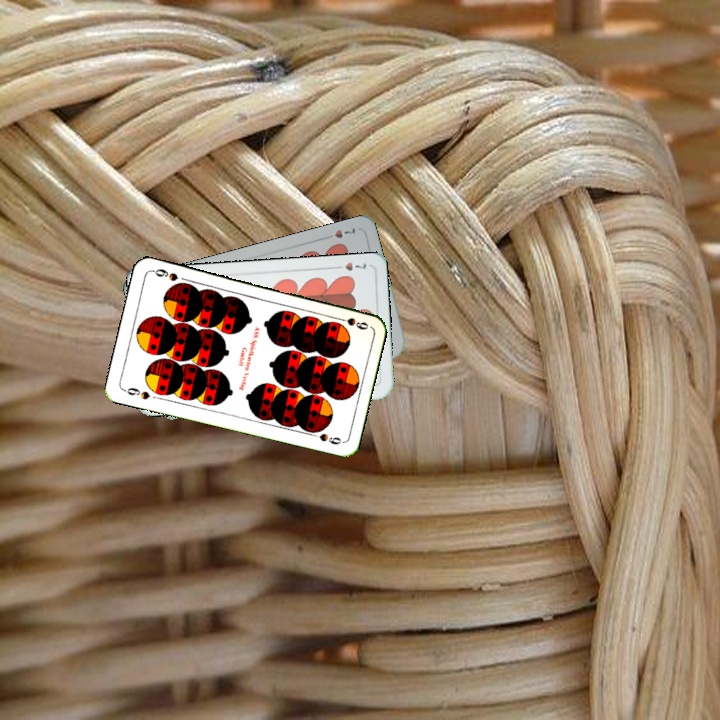H7: (330, 258, 368, 273), (330, 224, 358, 241)
S9: (331, 313, 370, 332), (120, 383, 152, 402)
